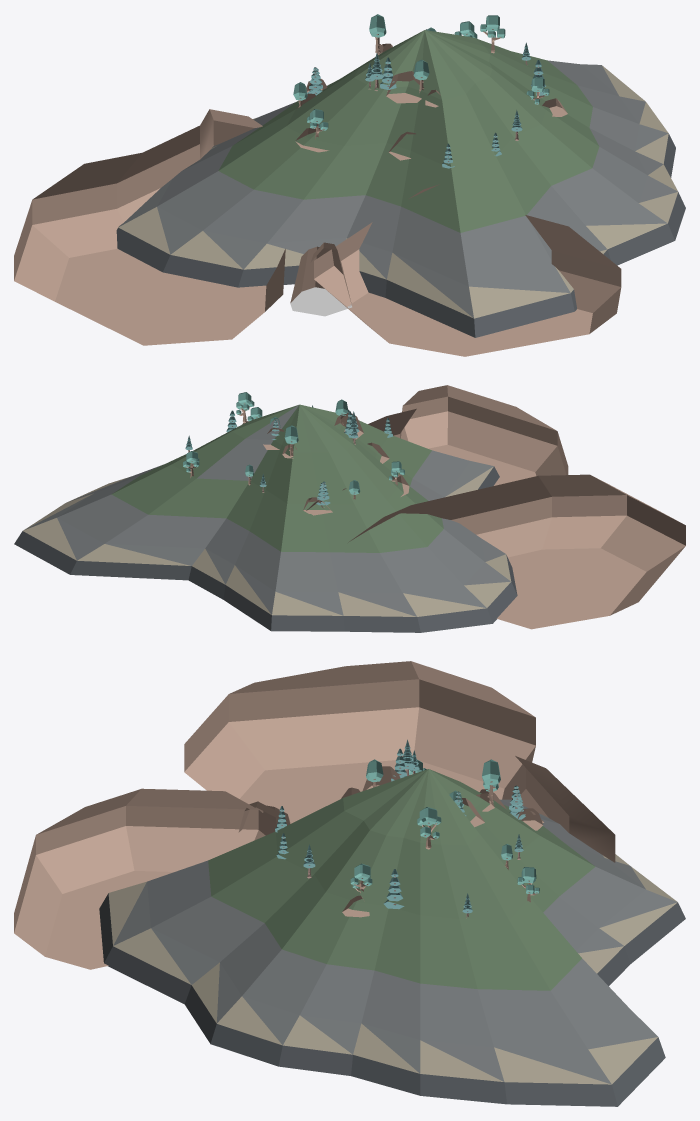
Rendered from haven_lod0.glb.
3 renders of one model, top to bottom at view 1: azimuth 30°, elevation 25°; view 2: azimuth 150°, elevation 25°; view 3: azimuth 270°, elevation 25°, orthographic. The views are drawn at different scales.
Size of the model in its own units: 3.1 by 0.8013 by 2.39.
